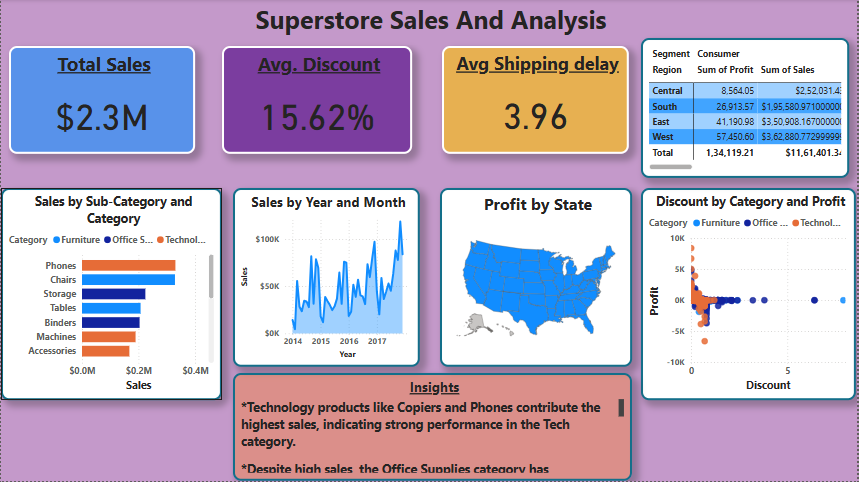

The dashboard page shown, as its layout file describes it:
{"tool":"powerbi","page":{"name":"Page 1","canvas":[1280,720],"ordinal":0},"visuals":[{"type":"card","title":"Total Sales","fields":{"Values":["Sum(dataset.Sales)"]},"box":[12,70.2,277.8,161.3],"z":0},{"type":"card","title":"Avg. Discount","fields":{"Values":["dataset.Average Discount"]},"box":[330.1,70.2,283.8,161.3],"z":1000},{"type":"card","title":"Avg Shipping delay","fields":{"Values":["dataset.Average Shipping Delay"]},"box":[658.8,70.2,279.3,161.3],"z":2000},{"type":"barChart","title":"Sales by Sub-Category and Category","fields":{"Category":["dataset.Sub-Category"],"Y":["Sum(dataset.Sales)"],"Series":["dataset.Category"]},"box":[0,282.3,330.1,316.7],"z":3000},{"type":"lineChart","title":" Sales by Year and Month","fields":{"Y":["Sum(dataset.Sales)"],"Category":["dataset.Order Date.Variation.Date Hierarchy.Year","dataset.Order Date.Variation.Date Hierarchy.Month"]},"box":[346.6,282.3,279.3,267.4],"z":4000},{"type":"shapeMap","title":"Profit by State","fields":{"Value":["Sum(dataset.Profit)"],"Category":["dataset.State"]},"box":[655.8,282.3,286.8,267.4],"z":5000},{"type":"scatterChart","title":"Discount by Category and Profit","fields":{"X":["Sum(dataset.Discount)"],"Y":["dataset.Profit"],"Series":["dataset.Category"]},"box":[956,282.3,321.2,316.7],"z":6000},{"type":"pivotTable","fields":{"Rows":["dataset.Region"],"Columns":["dataset.Segment"],"Values":["Sum(dataset.Profit)","Sum(dataset.Sales)"]},"box":[956,58.3,310.7,209.1],"z":7000},{"type":"textbox","title":"Insights","box":[346.6,558.7,596,161.3],"z":8001},{"type":"textbox","box":[346.6,0,591.5,70.2],"z":8002}]}

Visuals, with their boxes in screenshot pixels (x1, y1, x2, y2), scaled from the page's 1280x720 canvas onto the 859x482 screenshot:
"Total Sales" card: BBox(8, 47, 194, 155)
"Avg. Discount" card: BBox(222, 47, 412, 155)
"Avg Shipping delay" card: BBox(442, 47, 630, 155)
"Sales by Sub-Category and Category" barChart: BBox(0, 189, 222, 401)
" Sales by Year and Month" lineChart: BBox(233, 189, 420, 368)
"Profit by State" shapeMap: BBox(440, 189, 633, 368)
"Discount by Category and Profit" scatterChart: BBox(642, 189, 857, 401)
pivotTable - dataset.Region x dataset.Segment: BBox(642, 39, 850, 179)
"Insights" textbox: BBox(233, 374, 633, 481)
textbox: BBox(233, 0, 630, 47)
